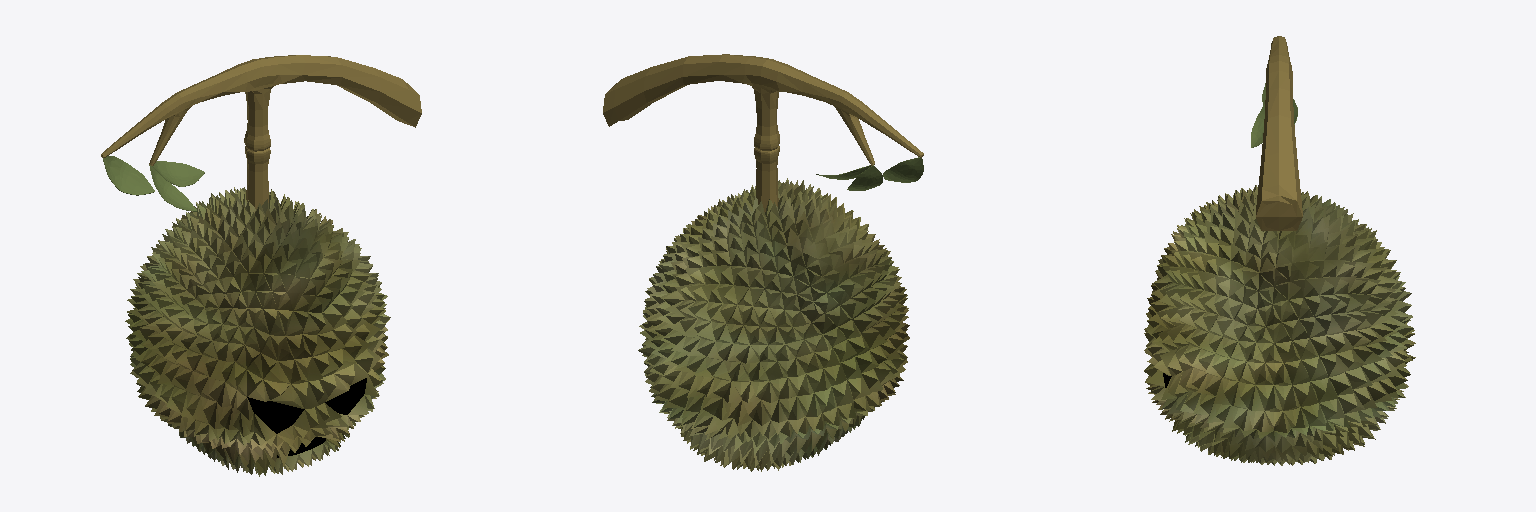
The picture shows the model from 3 angles: view 1: azimuth 30°, elevation 25°; view 2: azimuth 150°, elevation 25°; view 3: azimuth 270°, elevation 25°; orthographic projection.
Parts seen in each view (by area): view 1: Durian; view 2: Durian; view 3: Durian.
Part boxes in pixels (left/top/right/bottom): Durian: left=101, top=55, right=421, bottom=476; Durian: left=603, top=54, right=923, bottom=471; Durian: left=1144, top=36, right=1415, bottom=465.
Size of the model in its own units: 16.24 by 19.66 by 12.43.
4 materials, 1 textured.